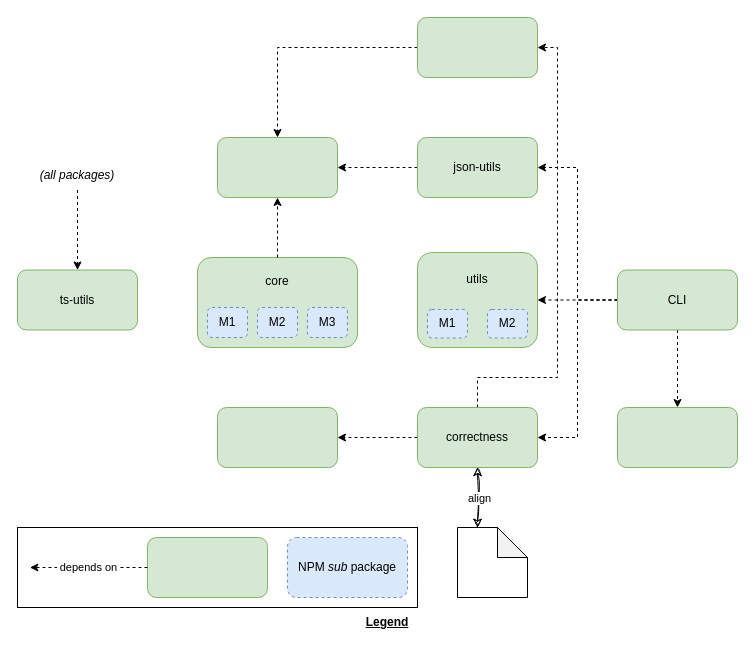
Some shapes in this 755 by 655 pixel diagram are drawn without their labels. The centre of each missing label's shape, as x and y in pixels:
"correctness document" belongs at point (492, 562).
"findings" belongs at point (277, 437).
"generation" belongs at point (677, 437).
"json" belongs at point (277, 167).
"json-diff" belongs at point (477, 47).
"NPM package (ESM module)" belongs at point (207, 567).
